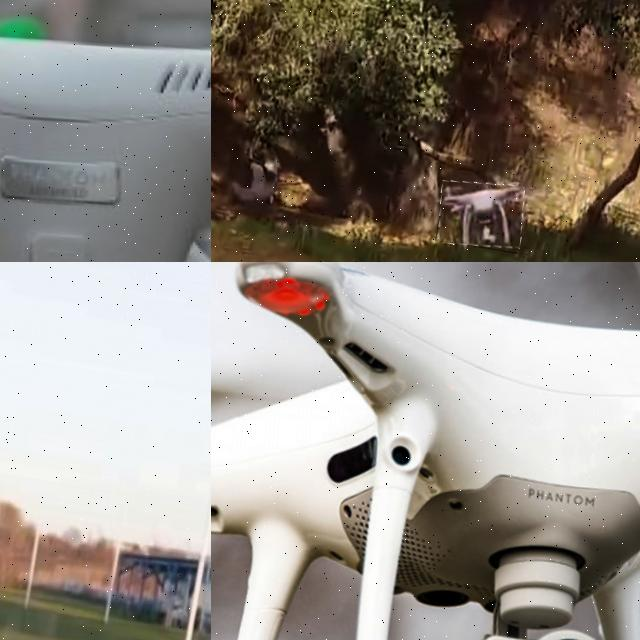0: (0, 0, 211, 262), (435, 176, 528, 253)
drone: (211, 262, 640, 640)
